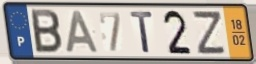2: (162, 9, 194, 57)
7: (99, 11, 123, 53)
A: (64, 9, 100, 54)
B: (29, 8, 64, 56)
T: (129, 10, 155, 55)
Z: (192, 10, 228, 56)
